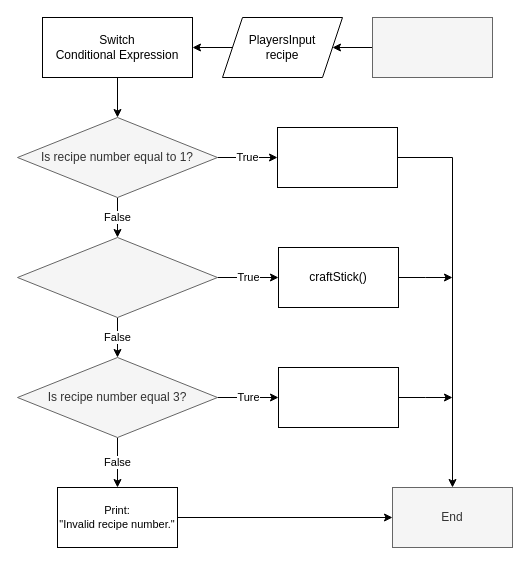
Some shapes in this 530 by 565 pixel diagram are drawn without their labels. The shapes that lost their labels are listed below. From the top down, each one's centre as x and y in pixels, then its label:
At pixel 432 47: "Start".
At pixel 337 157: "craftWoodenPlanks()".
At pixel 117 277: "Is recipe number equal to 2?".
At pixel 338 397: "craftIronIngot()".
